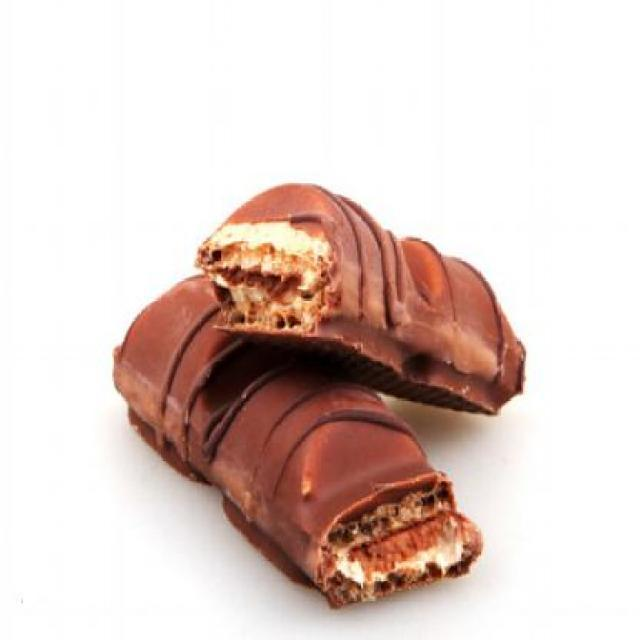Chocolate bar packaged: (111, 264, 484, 610), (195, 175, 527, 427)
